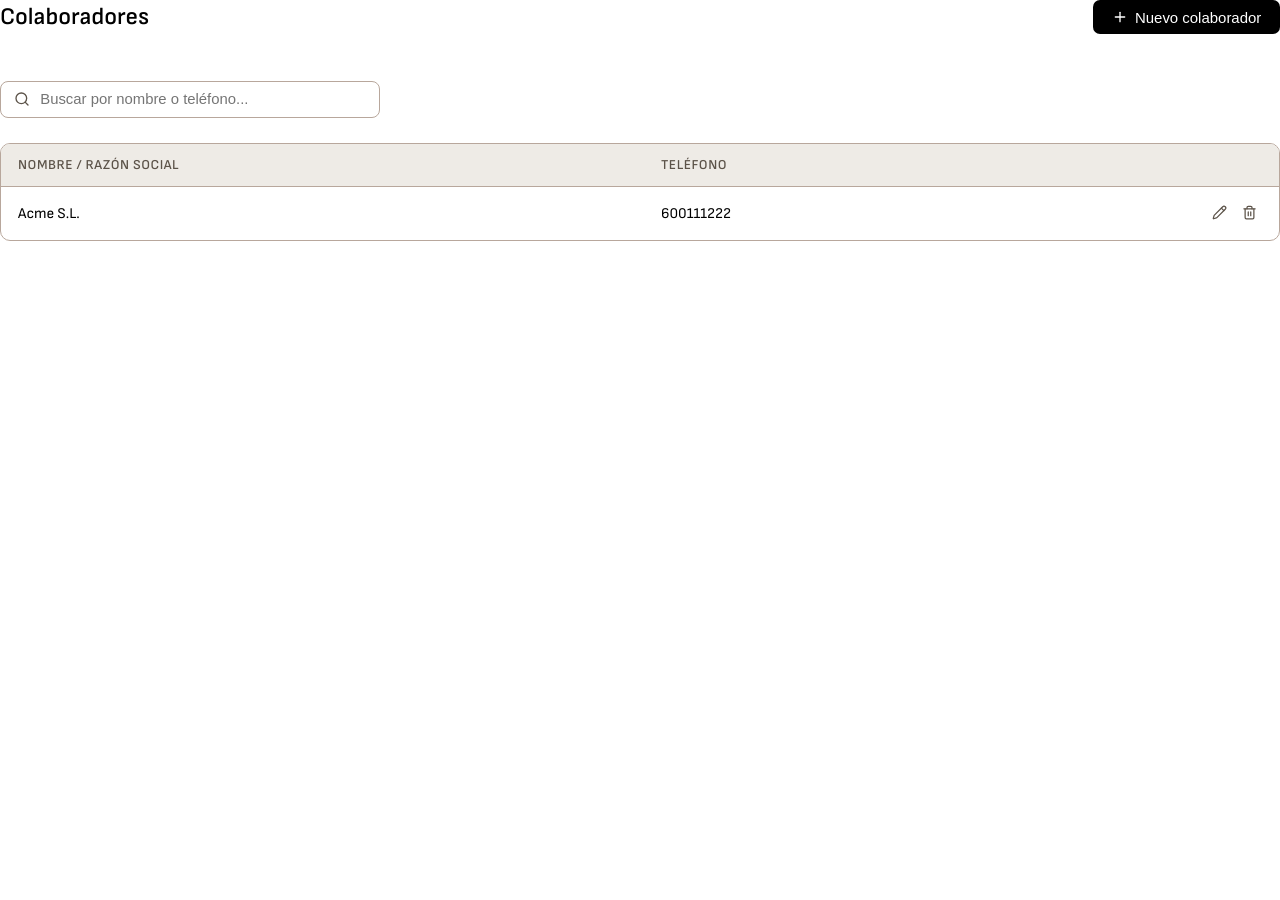
Scenario: Collaborators › opens modal with existing data when edit is clicked
The image size is (1280, 900).
Expected: the text "Acme S.L." is shown, x1=1 y1=186 x2=644 y2=240
Click the button titled "editar colaborador" at [1220, 214], box x1=1207 y1=200 x2=1233 y2=228
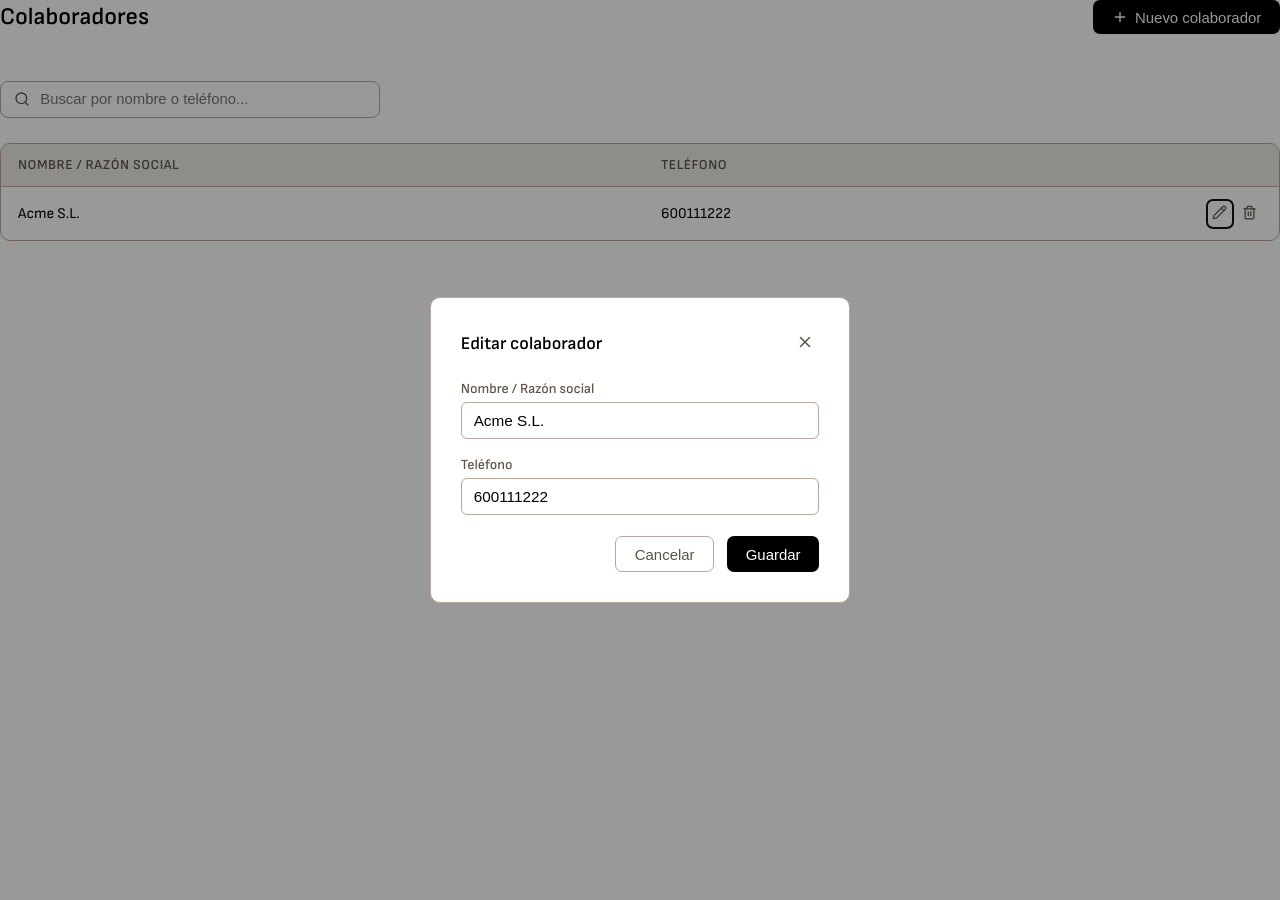
Expected: the field labelled "Nombre / Razón social" holds "Acme S.L.", x1=461 y1=402 x2=819 y2=439
